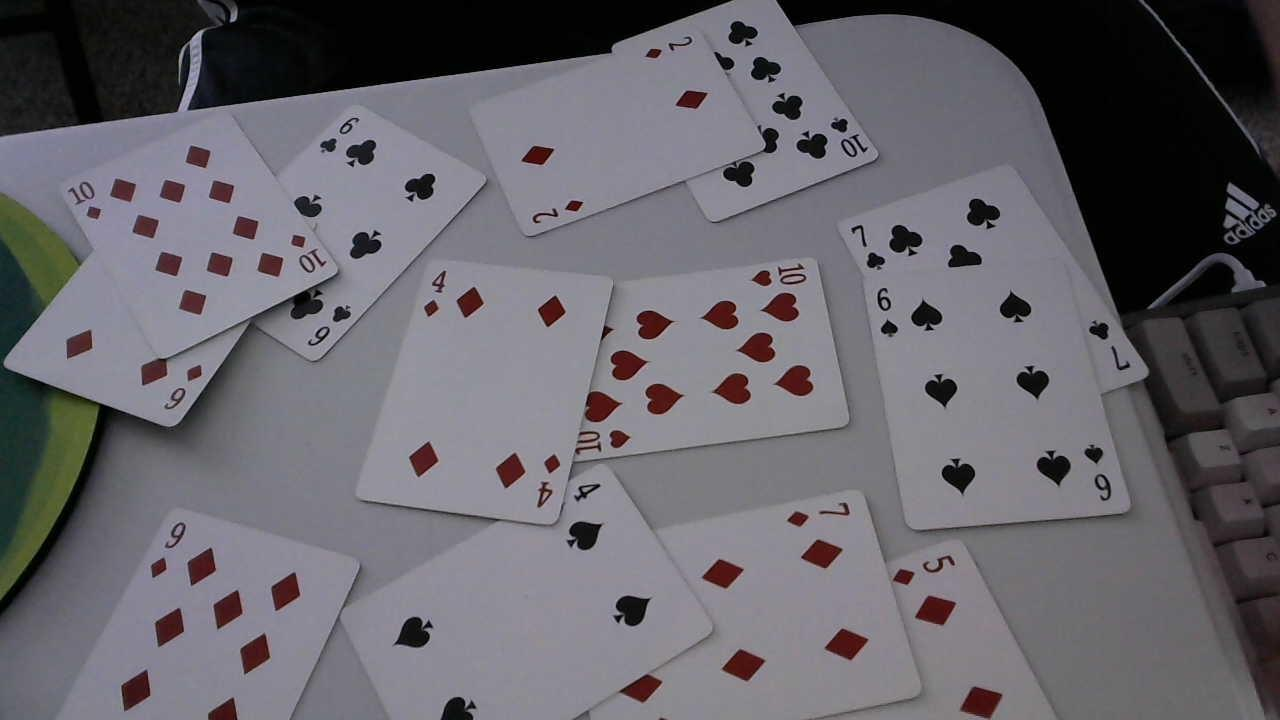10C: (827, 112, 872, 158)
10D: (287, 230, 332, 275), (69, 177, 104, 224)
10H: (748, 258, 807, 291), (572, 424, 634, 453)
2D: (529, 195, 584, 225), (642, 32, 695, 62)
4D: (532, 454, 567, 510), (422, 265, 449, 318)
5D: (889, 549, 957, 585)
6C: (306, 304, 356, 348), (317, 113, 363, 158)
6D: (160, 360, 206, 413)
6S: (1080, 442, 1115, 509), (874, 283, 903, 340)
7C: (1084, 317, 1138, 377), (848, 218, 891, 276)
7D: (787, 501, 852, 528)
9D: (145, 520, 189, 580)
